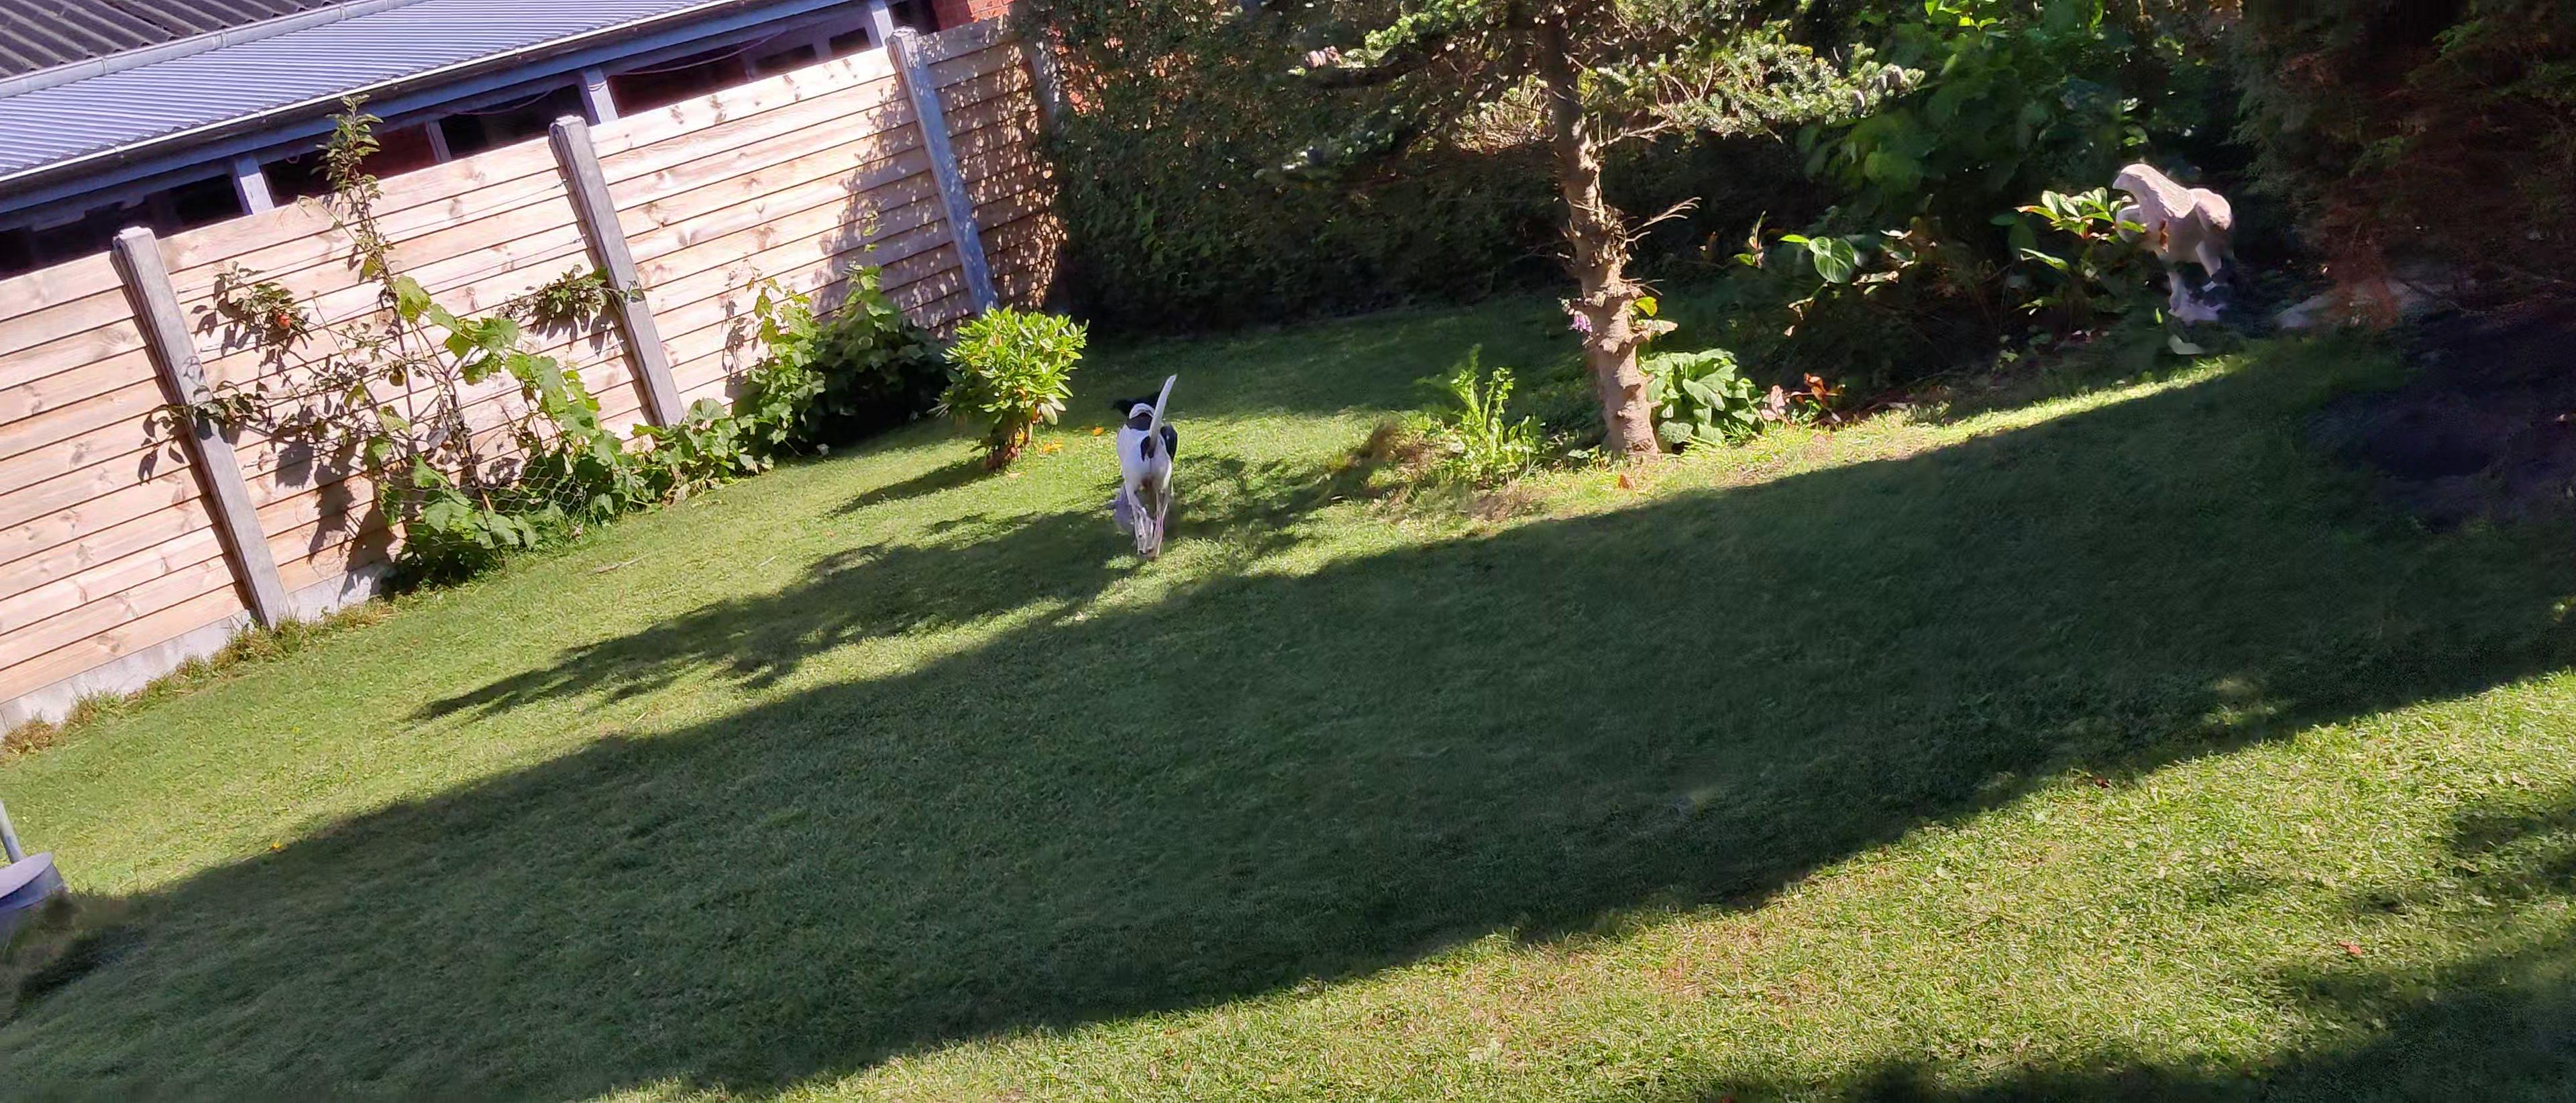Dog: (1104, 363, 1184, 562)
